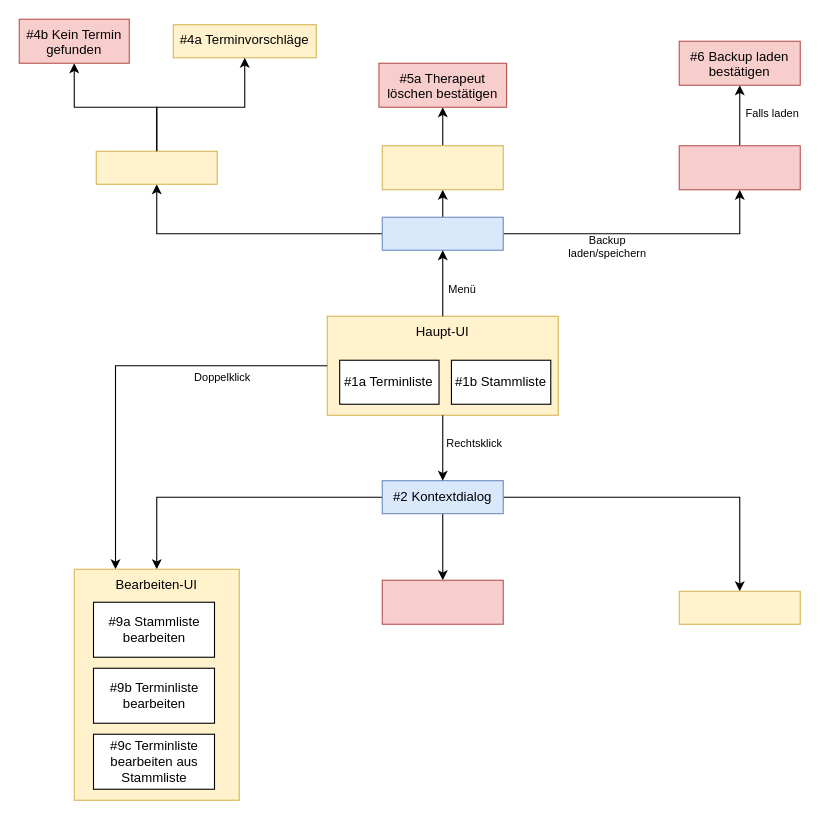
This 831x820 diagram has some shape labels left out. The shapes that lost their labels are listed below. From the top down, each one's centre as x and y in pixels, then its label:
At pixel 156 167: "#4 Terminfinder".
At pixel 442 167: "#5 Therapeuten verwalten".
At pixel 739 167: "#0 Windows-Explorer".
At pixel 442 233: "#3 Menüdialog".
At pixel 442 601: "#8 Patient löschen bestätigen".
At pixel 739 607: "#7 Drucken".
